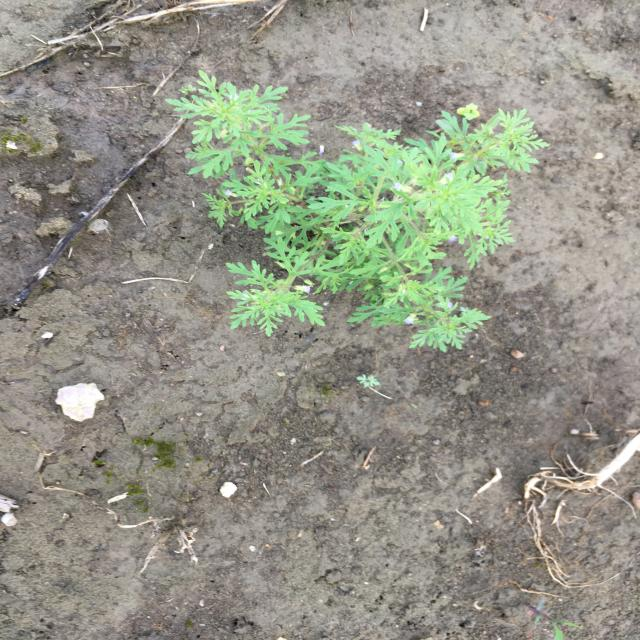Ragweed: (160, 68, 552, 353)
